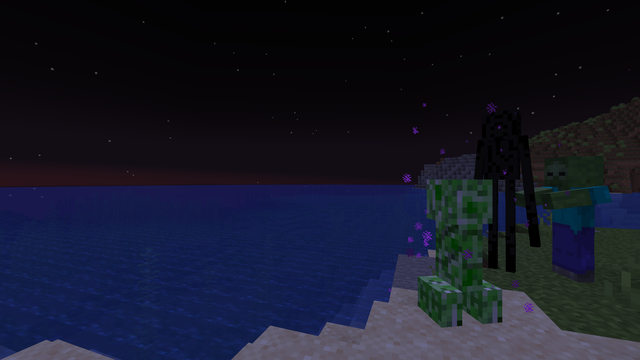creepers: (429, 172, 493, 331)
endermens: (478, 102, 528, 276)
zombies: (541, 158, 607, 285)
